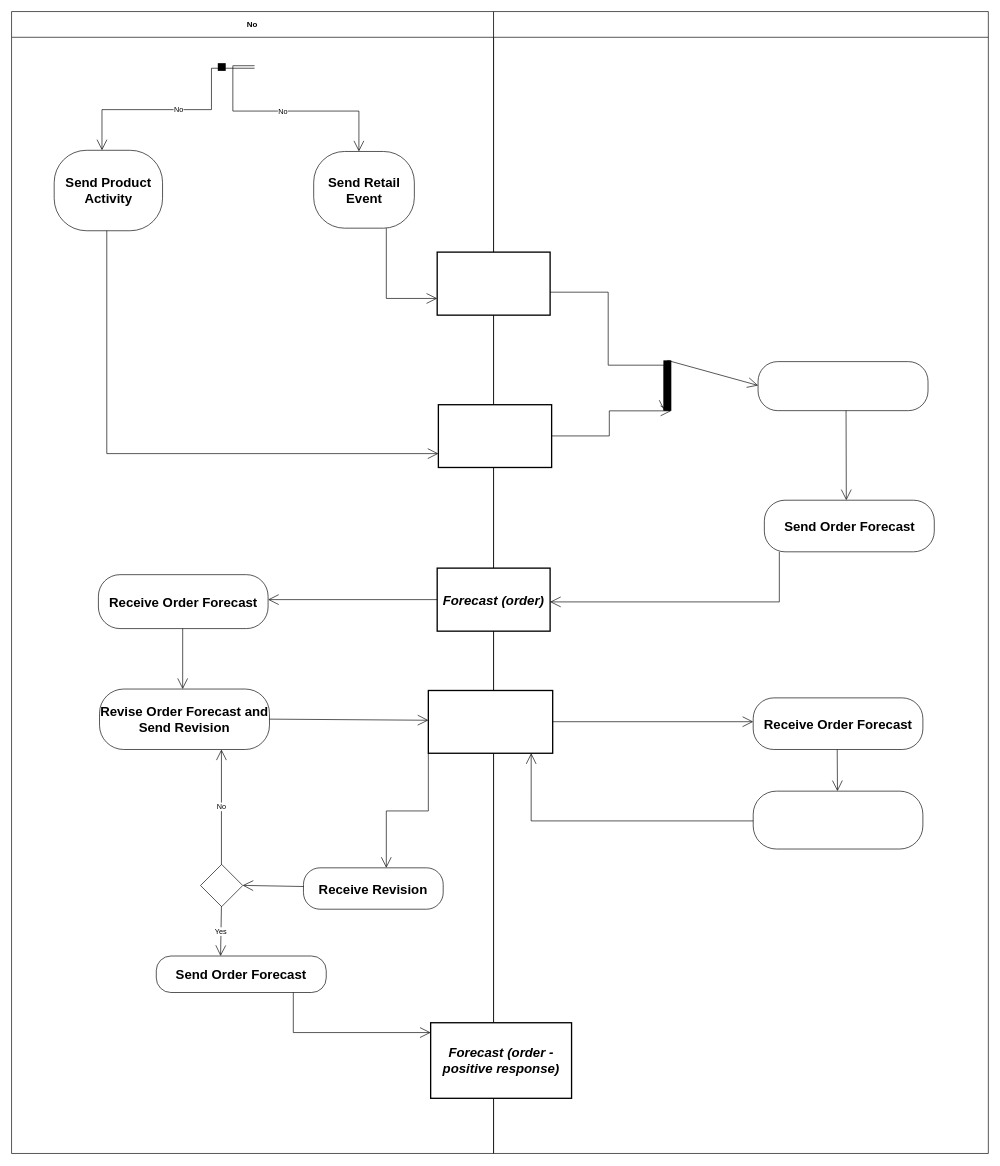
The diagram is 1000 pixels wide and 1166 high, and some of its shapes have lost their labels. The shapes that lost their labels are listed below. From the top down, each one's box as (x1, y1, x2, y2) in pixels, then its label:
(436, 251, 550, 315): Retail Event
(757, 361, 928, 411): Receive
(437, 404, 552, 468): Product Activity
(493, 11, 988, 1153): Create Order Forecast
(427, 690, 553, 754): Forecast Revision (order)
(753, 790, 923, 849): Revise Order Forecast and Resend Revision
